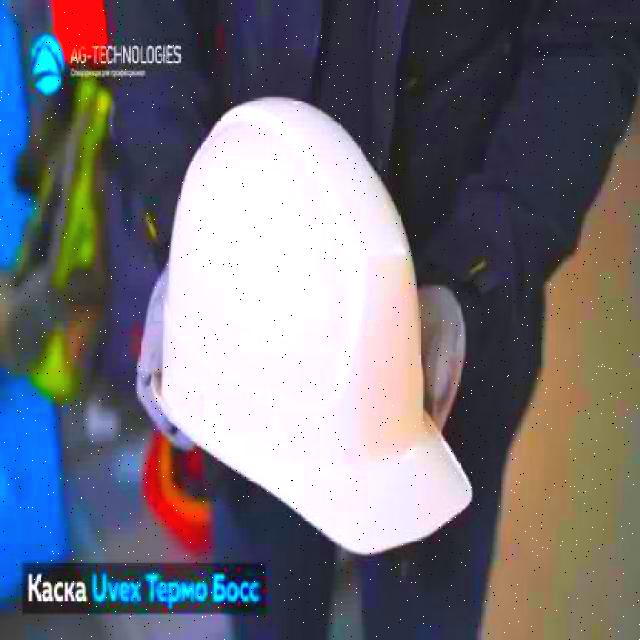Gloves: (136, 258, 196, 457), (417, 282, 466, 436)
Helmet: (150, 95, 475, 558)
